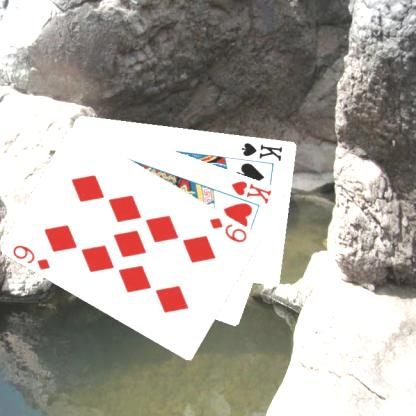9D: (207, 214, 249, 244), (10, 242, 52, 272)
KH: (228, 178, 274, 206)
KS: (239, 139, 284, 162)
